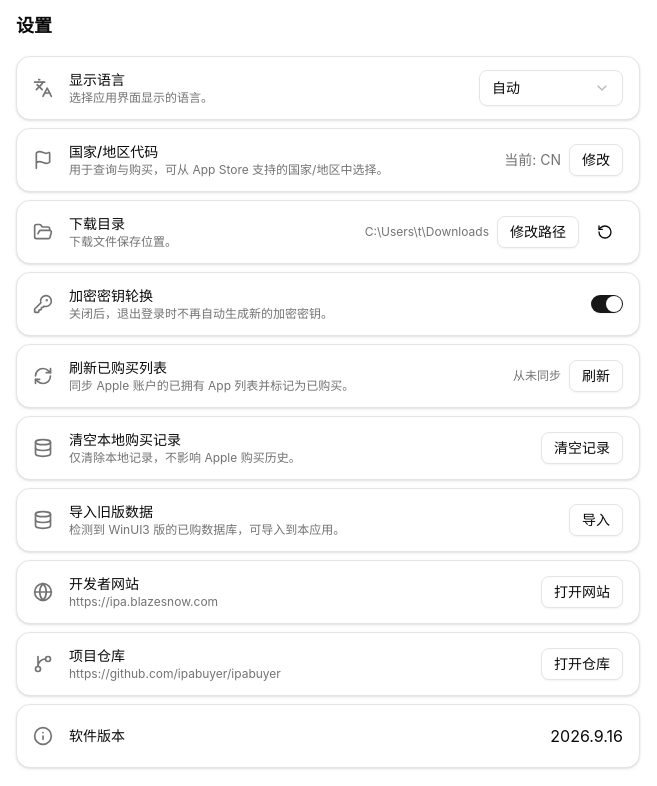
SettingsPage › 检测到旧版数据库且未导入时显示导入卡片，导入成功后隐藏
Check: the text "国家/地区代码" is shown, box [69,143,158,160]
Check: the text "导入旧版数据" is shown, box [69,503,153,520]
Click the button "导入" at {"x": 596, "y": 520}, box [569,504,623,536]
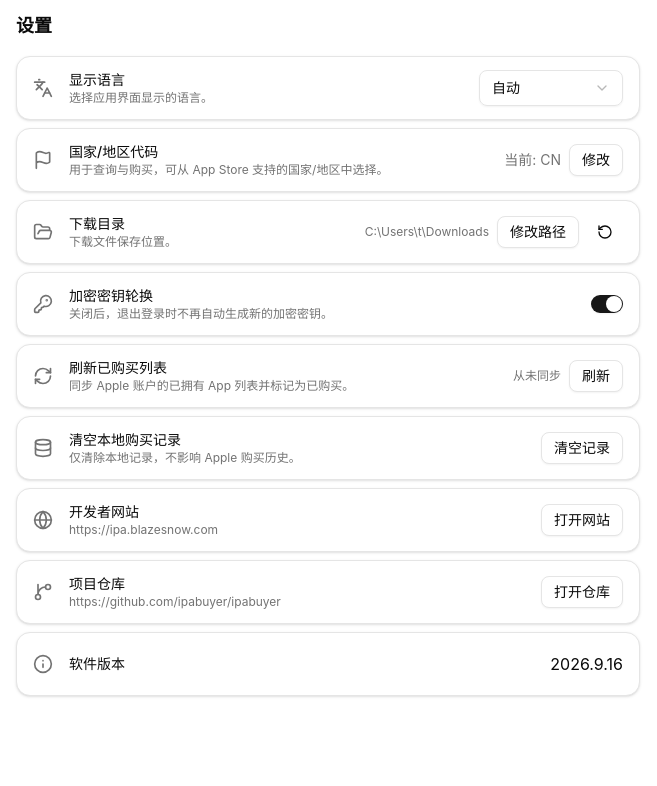
Check: the text "导入旧版数据" is gone
